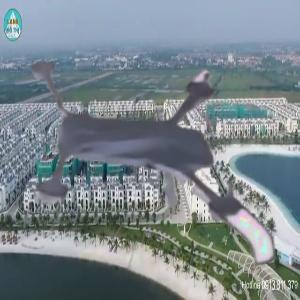drone: (5, 32, 272, 299)
